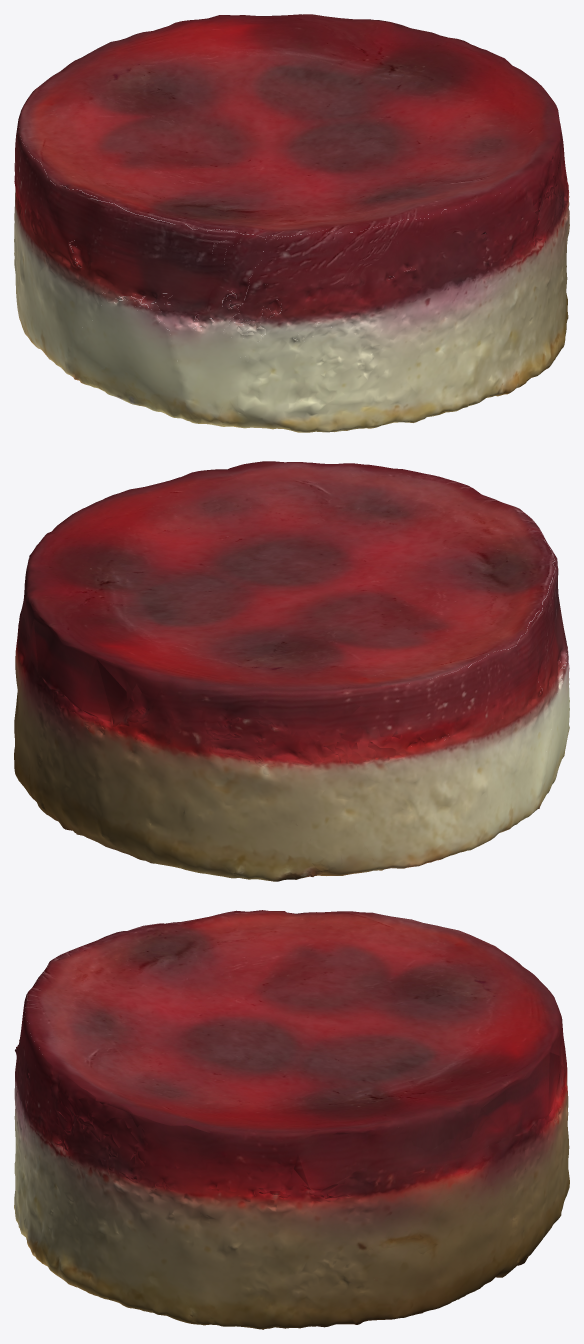
Rendered from panda_scaled.glb.
3 renders of one model, top to bottom at view 1: azimuth 30°, elevation 25°; view 2: azimuth 150°, elevation 25°; view 3: azimuth 270°, elevation 25°, orthographic.
Parts seen in each view (by area): view 1: Mesh_0_Part_0; view 2: Mesh_0_Part_0; view 3: Mesh_0_Part_0.
Part boxes in pixels (x1,y1,x2,y2): Mesh_0_Part_0: [14, 14, 569, 432]; Mesh_0_Part_0: [14, 461, 569, 881]; Mesh_0_Part_0: [14, 910, 569, 1329].
Size of the model in its own units: 0.0939 by 0.0393 by 0.0955.
1 material, 1 textured.
